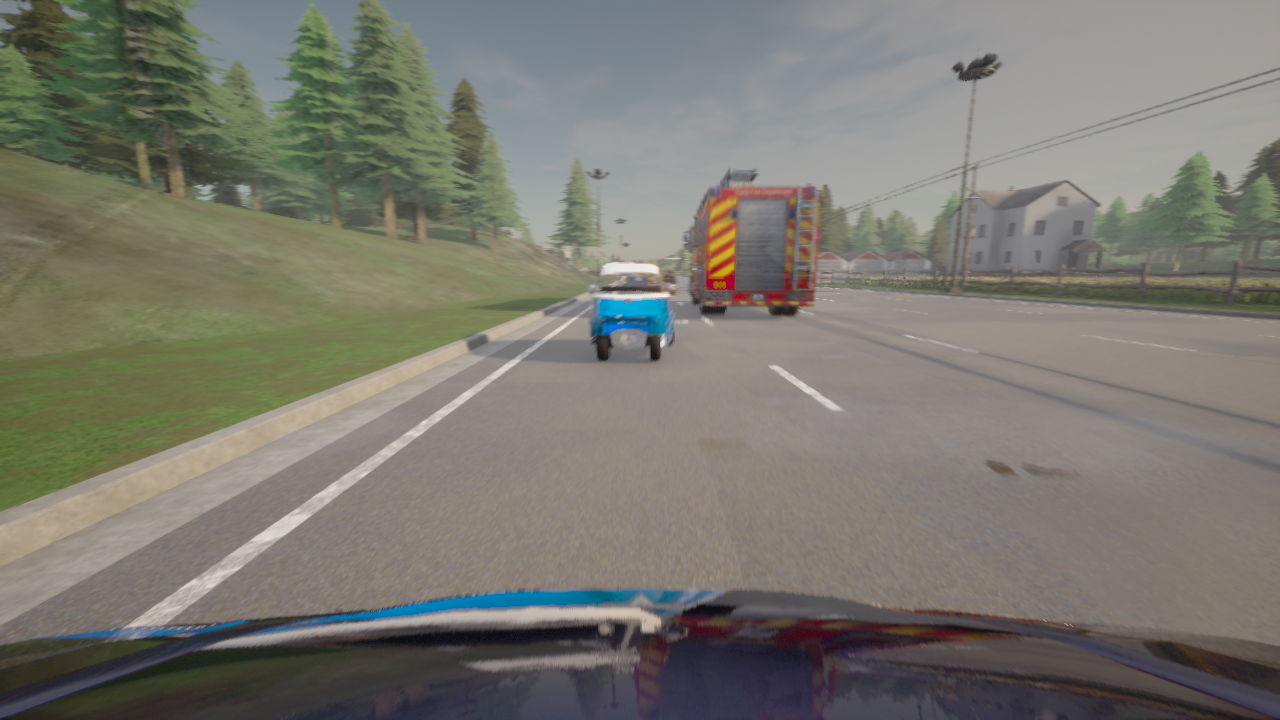cyclist: (0, 588, 1279, 719), (684, 168, 818, 315), (588, 263, 677, 361), (661, 270, 675, 283)
